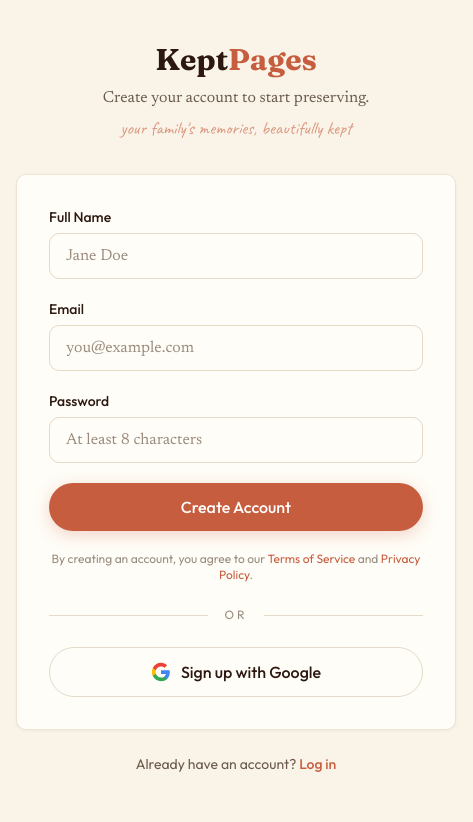
Signup page › shows validation errors when submitting empty form
This screenshot has width=473, height=822.
Click the button "Create Account": click(236, 507) [49, 483, 423, 531]
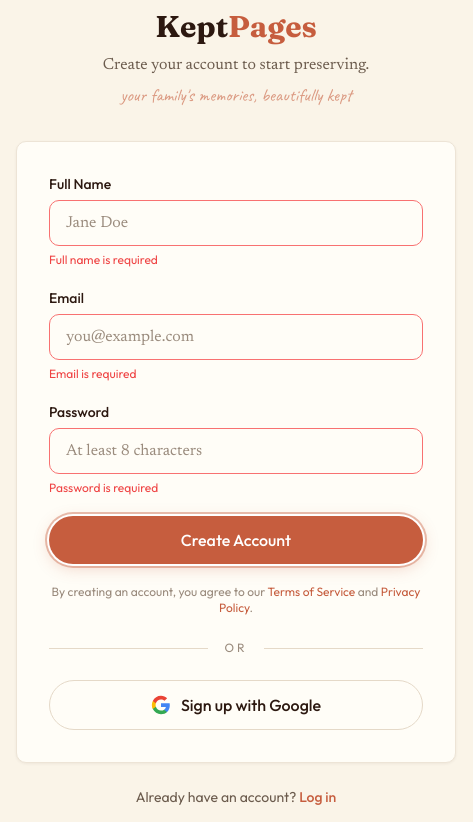
Check: the text "Full name is required" is shown, box [49, 252, 158, 267]
Check: the text "Email is required" is shown, box [49, 366, 136, 381]
Check: the text "Password is required" is shown, box [49, 480, 158, 495]
